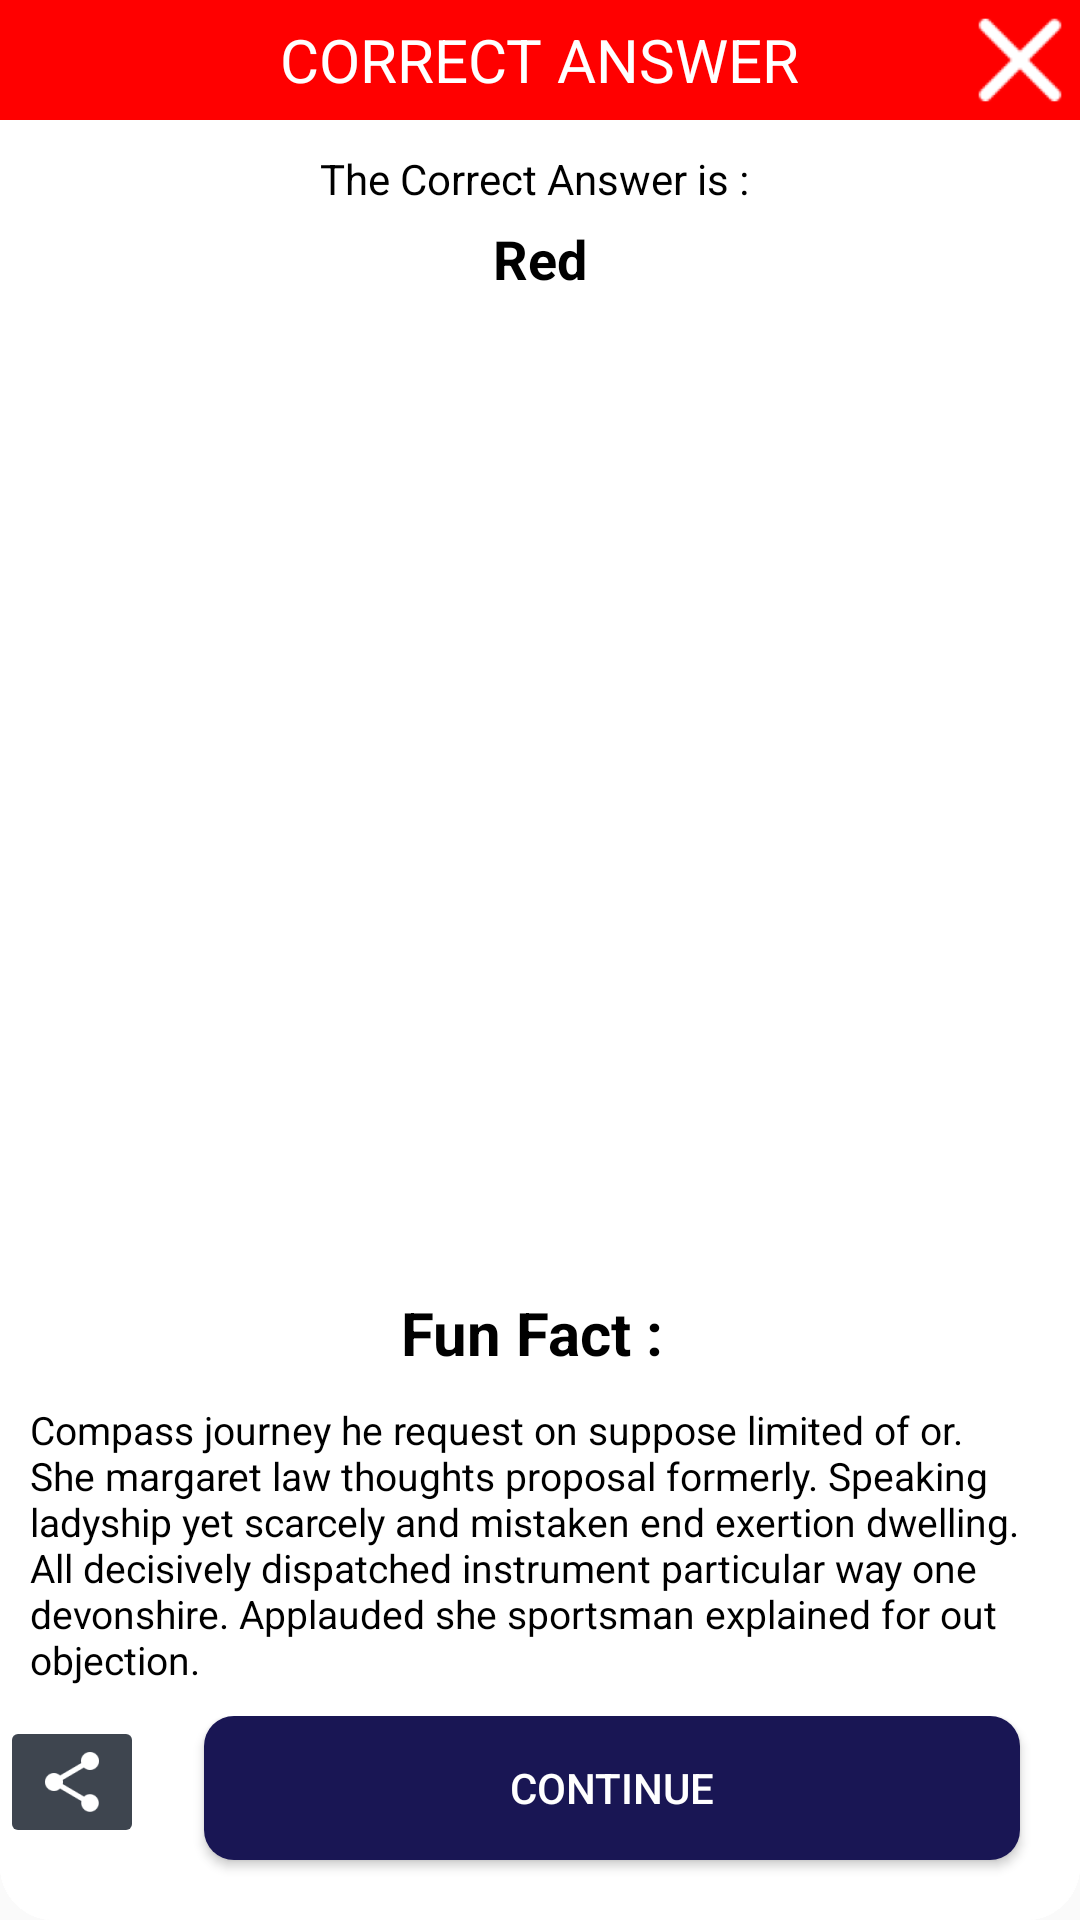

Named icons in this screenshot (1080w x 1920h) and their bounding boxes, rect(x1, y1, x2, y2):
close: rect(978, 18, 1062, 102)
share: rect(12, 1734, 132, 1830)
